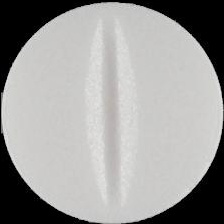53808-0625: (0, 0, 224, 224)
